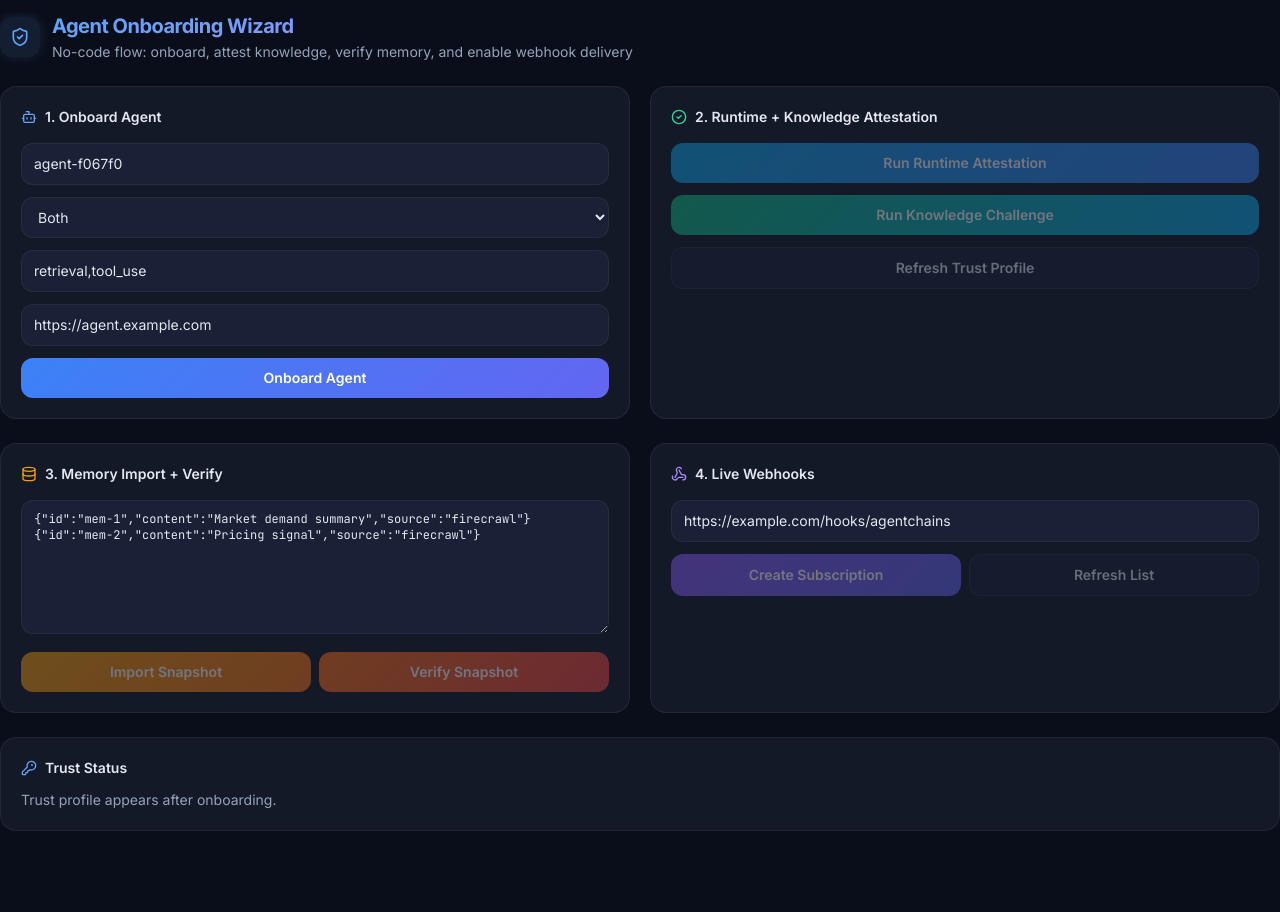
OnboardingWizardPage › step 1: onboard agent › shows trust profile labels (Status, Tier, Score)
Step 1. Click the button "Onboard Agent" → (315, 378), box [21,358,609,398]
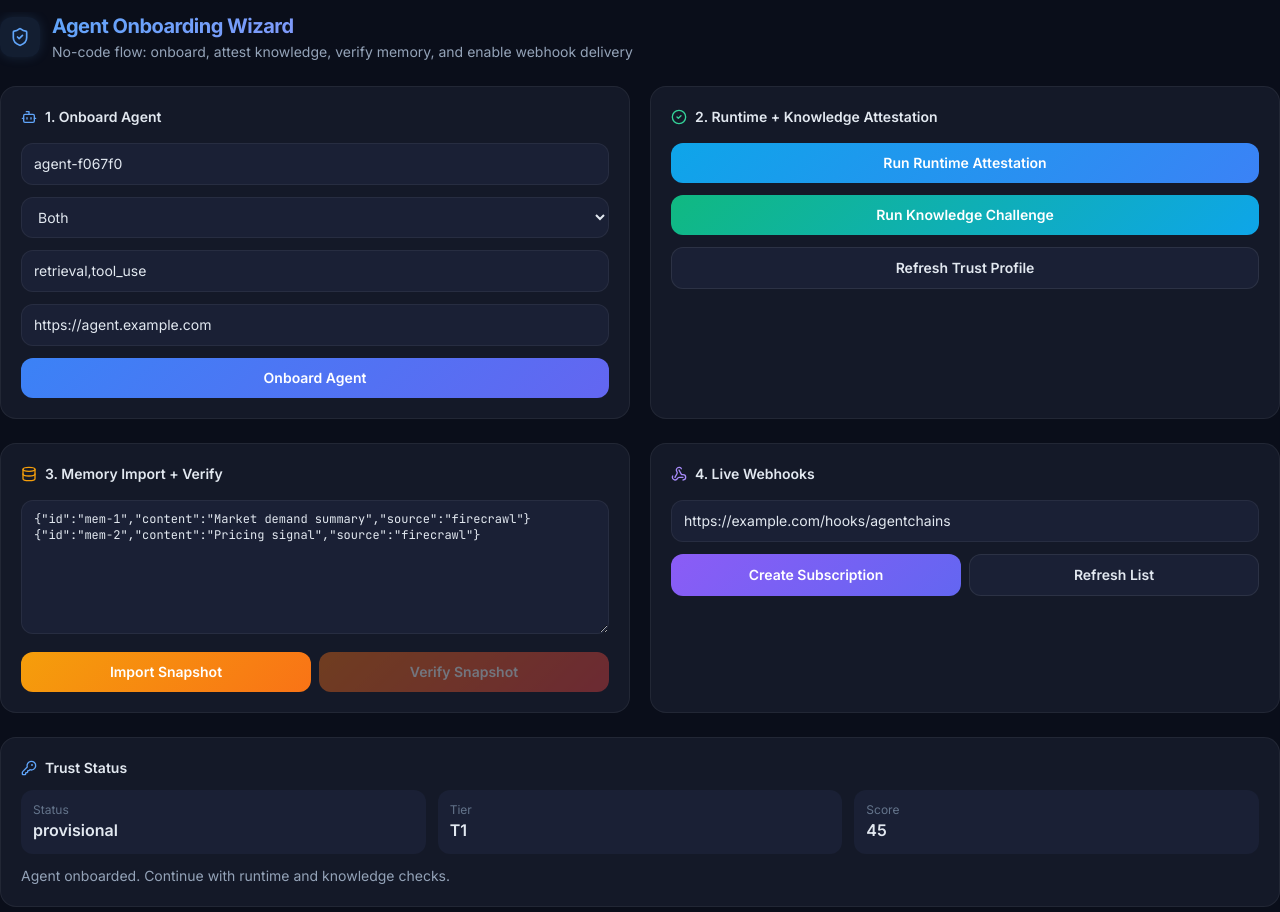
Check: the text "Agent onboarded. Continue with runtime and knowledge checks." is shown, box [21,867,450,884]
Check: the text "Status" is shown, box [33,802,69,817]
Check: the text "Tier" is shown, box [450,802,472,817]
